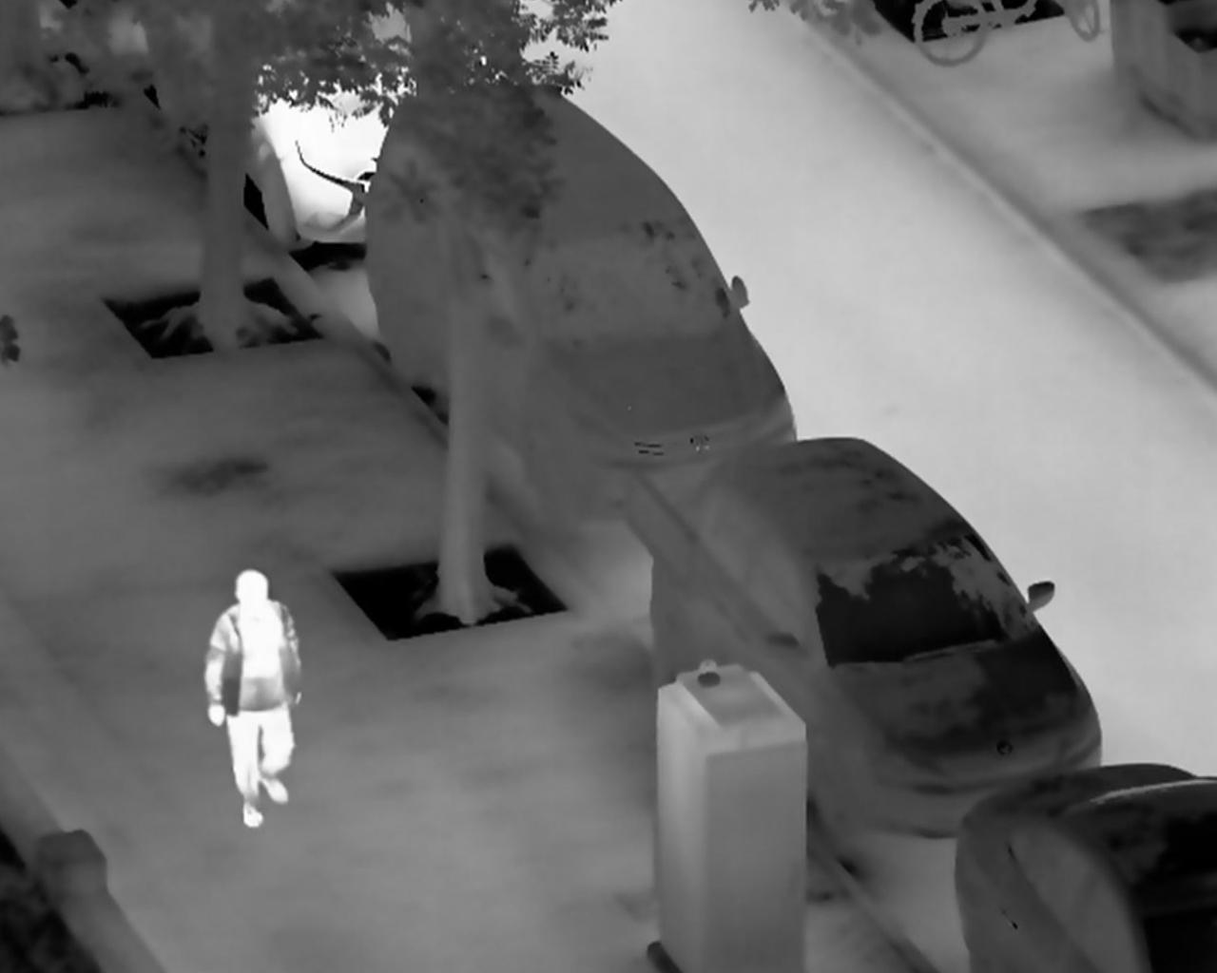person: (203, 567, 304, 829)
